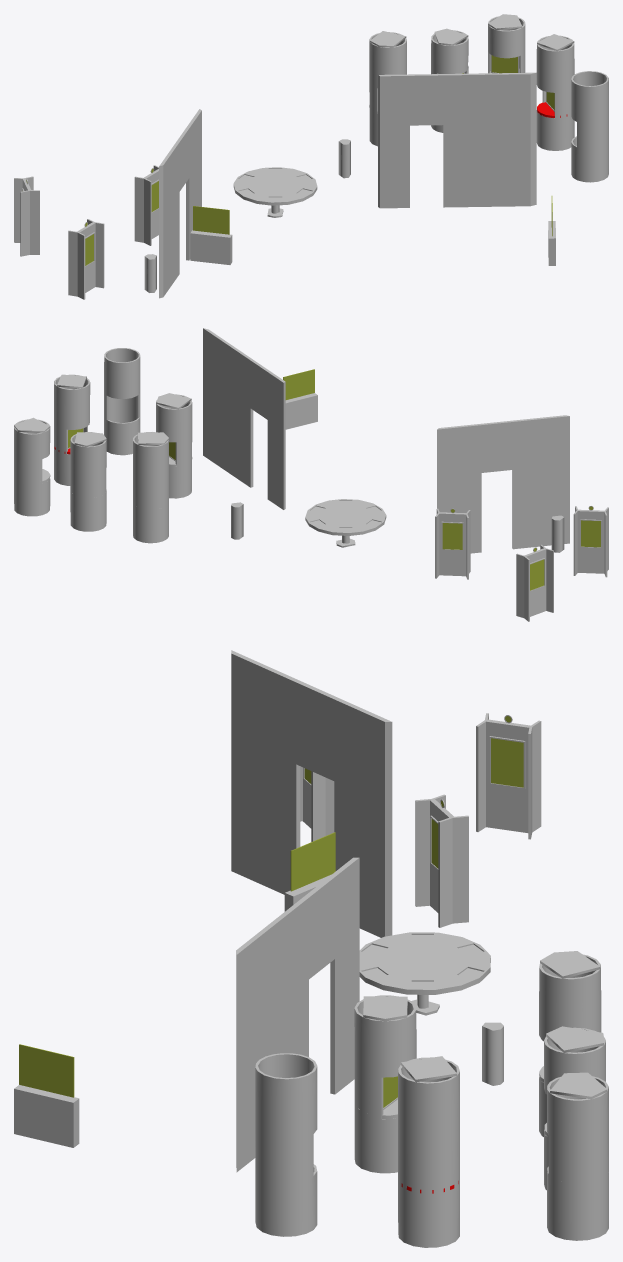
The model's file is Allestimento_realemutua_gr15.obj.
The picture shows the model from 3 angles, top to bottom: view 1: azimuth 30°, elevation 25°; view 2: azimuth 150°, elevation 25°; view 3: azimuth 270°, elevation 25°; orthographic projection. The views are drawn at different scales.
Bounding box in the file's own units: 373 × 87.67 × 217.
